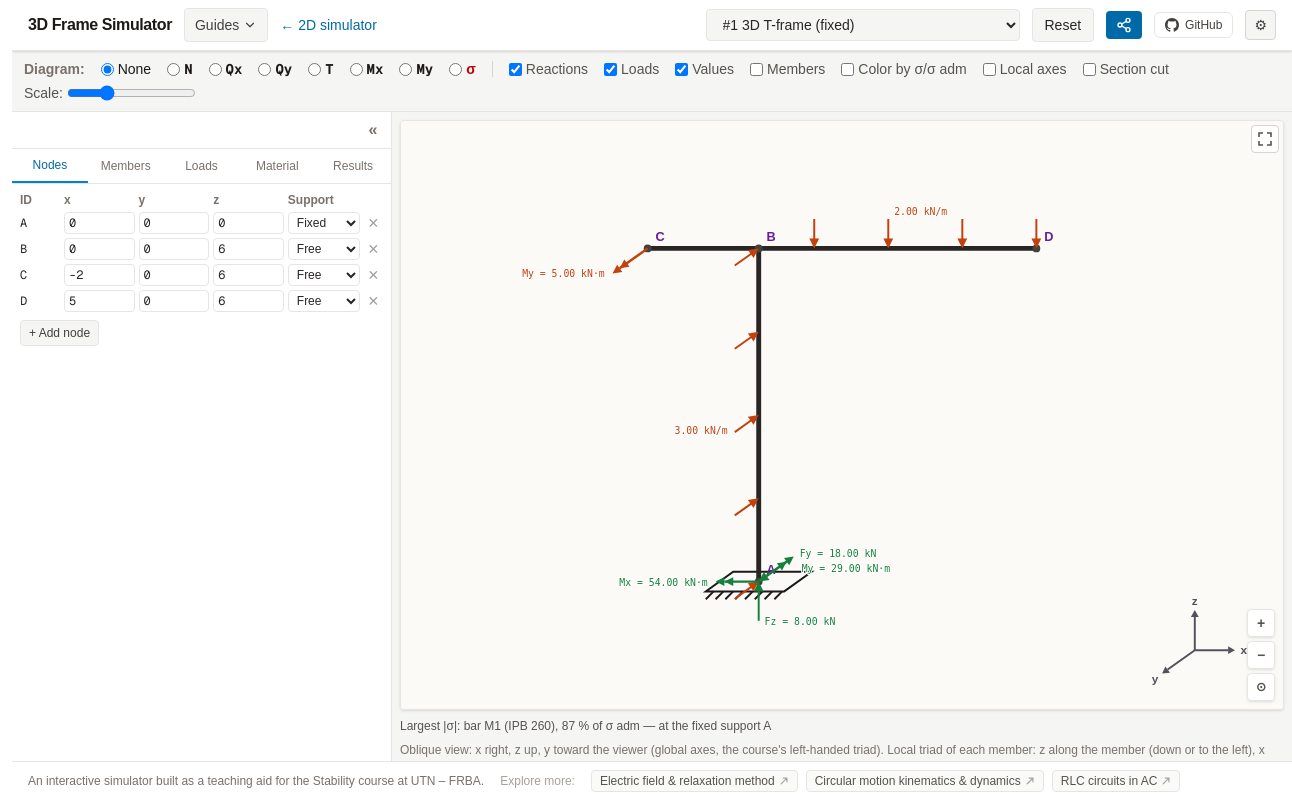
Test: /frame3d presets › a line says where σ max is: at the support for #1, INSIDE the bar for #5 (flagged)
The image size is (1292, 800).
Expected: the text with test id "peak-note" reads "Largest |σ|: bar M1 (IPB 260), 87 % of σ adm — at the fixed support A", [400,719,771,733]
Select "#5 3D frame (fixed) · σ max inside the bar" in the dropdown named "Examples" at (862, 25), box [706,9,1020,41]
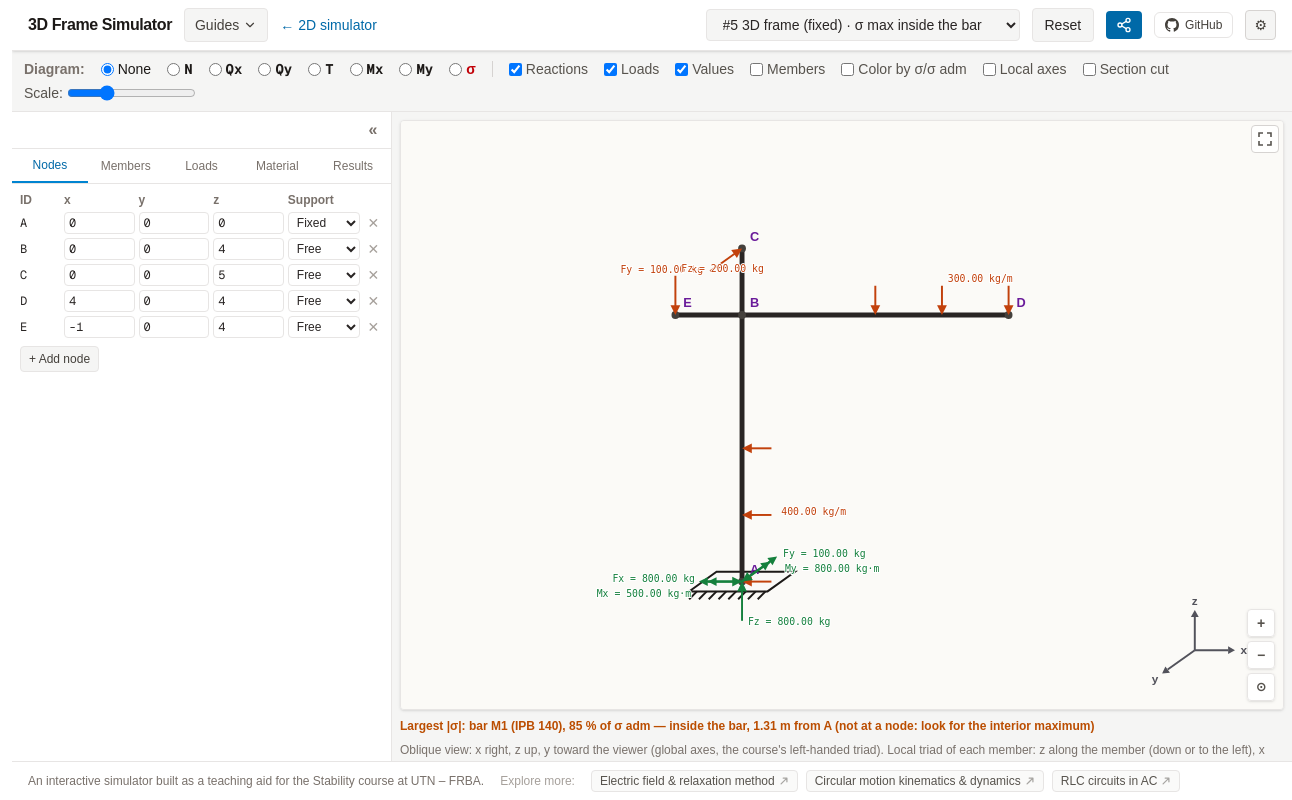
Expected: the text with test id "peak-note" shows "inside the bar, 1.31 m from A", [400,719,1094,733]
